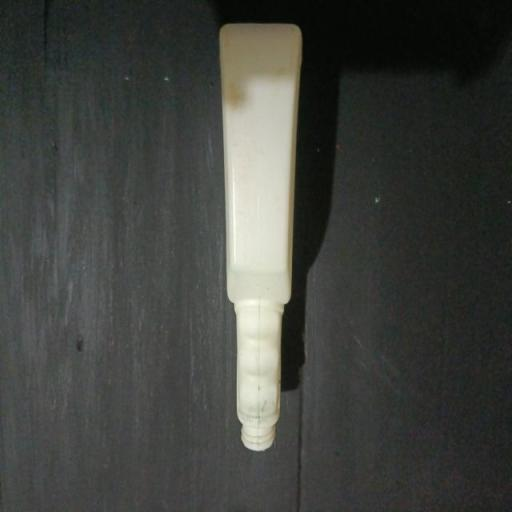plastic: (192, 10, 322, 468)
